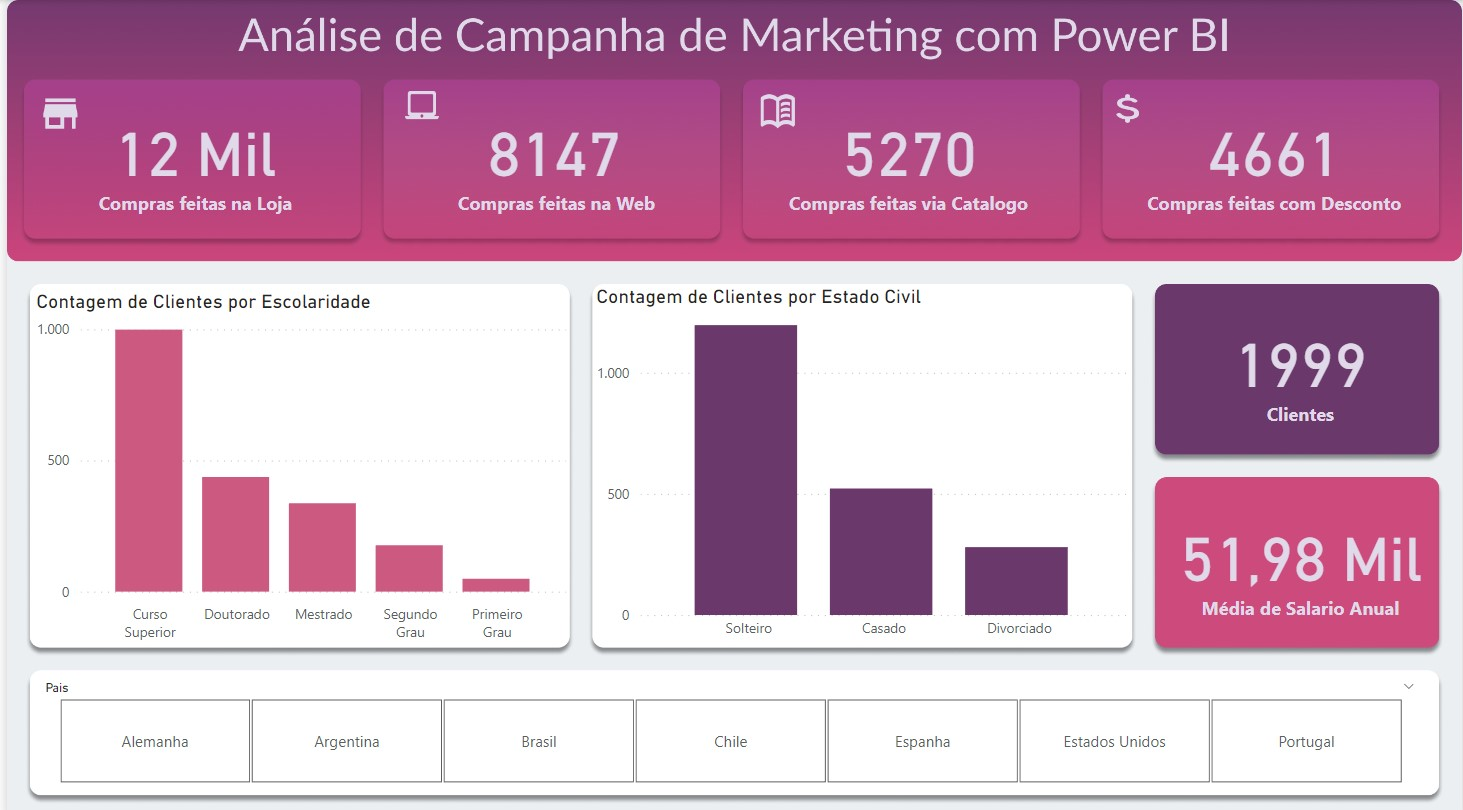

The dashboard page shown, as its layout file describes it:
{"tool":"powerbi","page":{"name":"Visão Cliente","canvas":[1280,720],"ordinal":0},"visuals":[{"type":"card","fields":{"Values":["CountNonNull(dados_marketing.ID)"]},"box":[1010.4,251.1,254.7,148.8],"z":0},{"type":"card","fields":{"Values":["Avg(dados_marketing.Salario Anual)"]},"box":[1010.4,421.3,254.7,150],"z":1000},{"type":"card","fields":{"Values":["Sum(dados_marketing.Numero de Compras na Loja)"]},"box":[16.7,66.6,298.7,145.2],"z":2000},{"type":"card","fields":{"Values":["Sum(dados_marketing.Numero de Compras na Web)"]},"box":[332,66.6,298.7,145.2],"z":3000},{"type":"card","fields":{"Values":["Sum(dados_marketing.Numero de Compras com Desconto)"]},"box":[964,66.6,301.1,145.2],"z":4000},{"type":"card","fields":{"Values":["Sum(dados_marketing.Numero de Compras via Catalogo)"]},"box":[645,66.6,295.1,145.2],"z":5000},{"type":"clusteredColumnChart","title":"Contagem de Clientes por Escolaridade","fields":{"Y":["CountNonNull(dados_marketing.ID)"],"Category":["dados_marketing.Escolaridade"]},"box":[21.4,254.7,476,316.6],"z":7000},{"type":"clusteredColumnChart","title":"Contagem de Clientes por Estado Civil","fields":{"Y":["CountNonNull(dados_marketing.ID)"],"Category":["dados_marketing.Estado Civil"]},"box":[512.9,251.1,477.2,320.1],"z":8000},{"type":"slicer","fields":{"Values":["dados_marketing.Pais"]},"box":[21.4,593.9,1229.4,101.2],"z":9000}]}

Visuals, with their boxes in screenshot pixels (x1, y1, x2, y2), scaled from the page's 1280x720 canvas onto the 1463x810 screenshot:
card - CountNonNull(dados_marketing.ID): left=1155, top=282, right=1446, bottom=450
card - Avg(dados_marketing.Salario Anual): left=1155, top=474, right=1446, bottom=643
card - Sum(dados_marketing.Numero de Compras na Loja): left=19, top=75, right=360, bottom=238
card - Sum(dados_marketing.Numero de Compras na Web): left=379, top=75, right=721, bottom=238
card - Sum(dados_marketing.Numero de Compras com Desconto): left=1102, top=75, right=1446, bottom=238
card - Sum(dados_marketing.Numero de Compras via Catalogo): left=737, top=75, right=1075, bottom=238
"Contagem de Clientes por Escolaridade" clusteredColumnChart: left=24, top=287, right=569, bottom=643
"Contagem de Clientes por Estado Civil" clusteredColumnChart: left=586, top=282, right=1132, bottom=643
slicer - dados_marketing.Pais: left=24, top=668, right=1430, bottom=782
